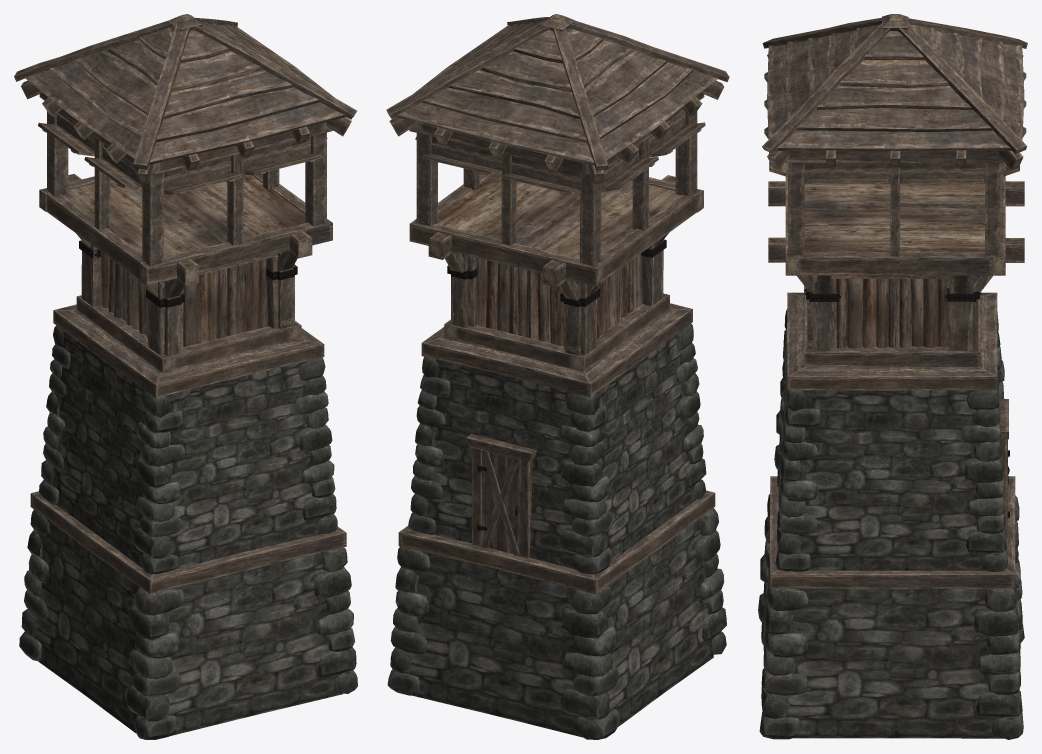
The model's file is jav_struc_def_Stone_t2_tower_alt-transformed.glb.
3 views of the same model, side by side, from view 1: azimuth 30°, elevation 25°; view 2: azimuth 150°, elevation 25°; view 3: azimuth 270°, elevation 25° (orthographic). The views are drawn at different scales.
Parts seen in each view (by area): view 1: default; view 2: default; view 3: default.
Boxes of the visible parts, x1,y1,x2,y2 form: default: [14, 14, 357, 739]; default: [386, 14, 729, 739]; default: [758, 14, 1027, 739].
Size of the model in its own units: 6.05 by 16.92 by 6.17.
Materials: 3 (3 with a texture image).
